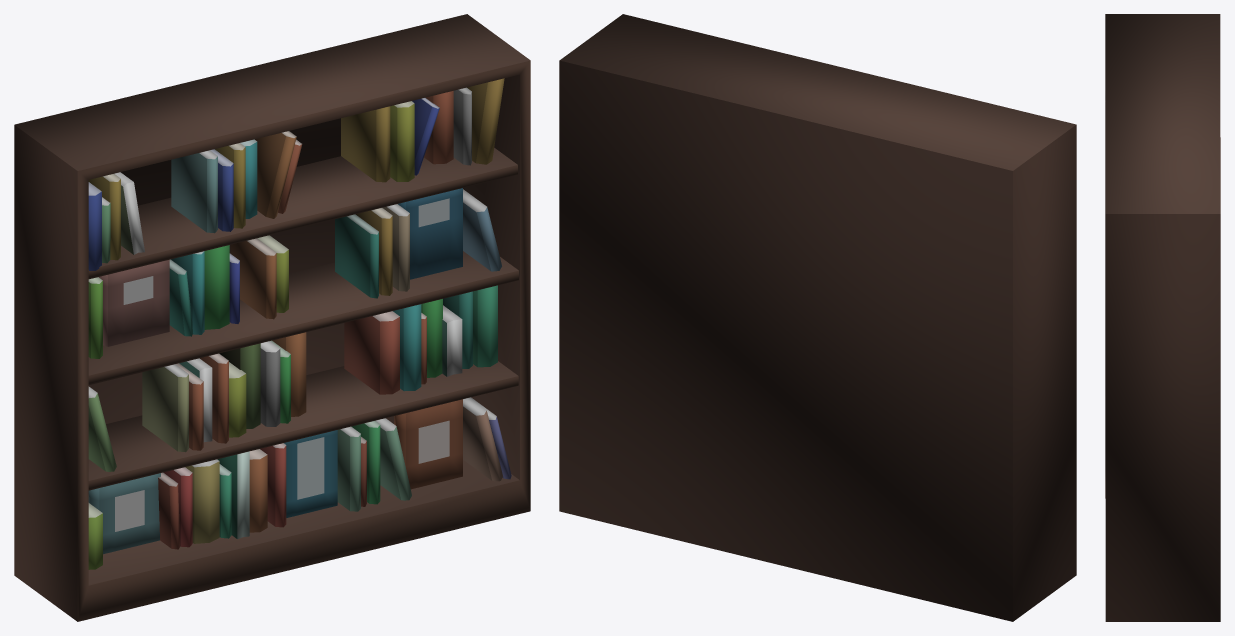
The picture shows the model from 3 angles, left to right: view 1: azimuth 30°, elevation 25°; view 2: azimuth 150°, elevation 25°; view 3: azimuth 270°, elevation 25°; orthographic projection. The views are drawn at different scales.
Visible parts, largest first — view 1: alt35; view 2: alt35; view 3: alt35.
Boxes of the visible parts, x1=… form: alt35: x1=14, y1=14, x2=530, y2=621; alt35: x1=559, y1=14, x2=1076, y2=621; alt35: x1=1105, y1=14, x2=1220, y2=621.
Size of the model in its own units: 0.5 by 0.4752 by 0.1216.
